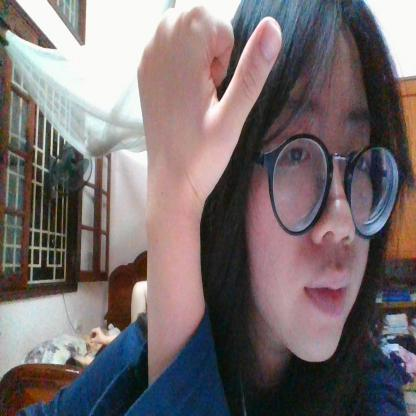left: (138, 6, 284, 203)
